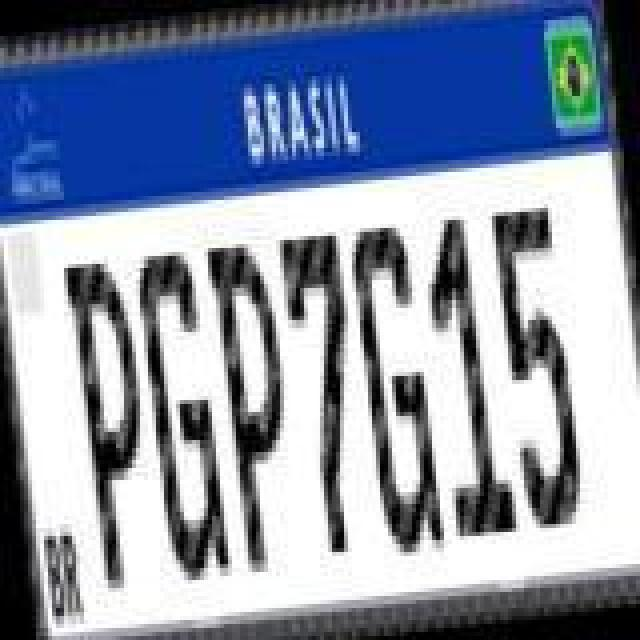1: (416, 212, 520, 540)
5: (490, 200, 590, 536)
7: (276, 222, 380, 562)
G: (134, 248, 234, 584), (346, 216, 446, 552)
P: (60, 254, 164, 594), (204, 238, 308, 578)
